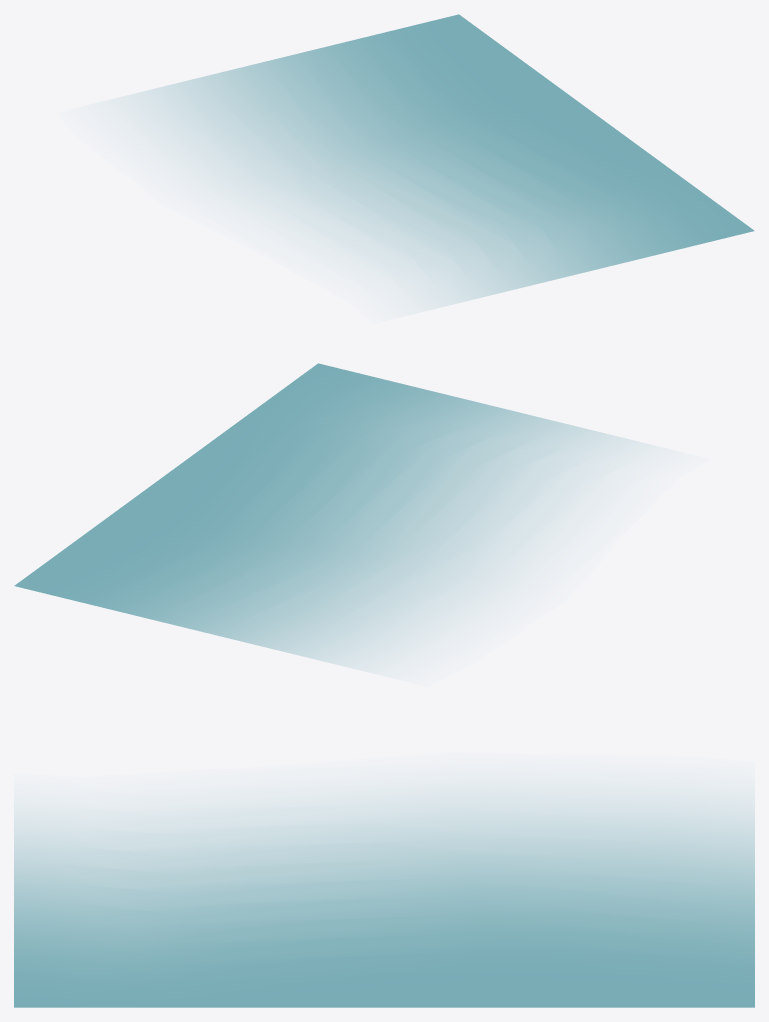
3 views of the same model, one above another, from view 1: azimuth 30°, elevation 25°; view 2: azimuth 150°, elevation 25°; view 3: azimuth 270°, elevation 25° (orthographic). The views are drawn at different scales.
Visible parts, largest first — view 1: city; view 2: city; view 3: city.
Boxes of the visible parts, box(x1,y1,x2,y2) form: city: box(119, 14, 754, 308); city: box(14, 363, 648, 670); city: box(14, 789, 754, 1007).
Size of the model in its own units: 449 by 0 by 500.
